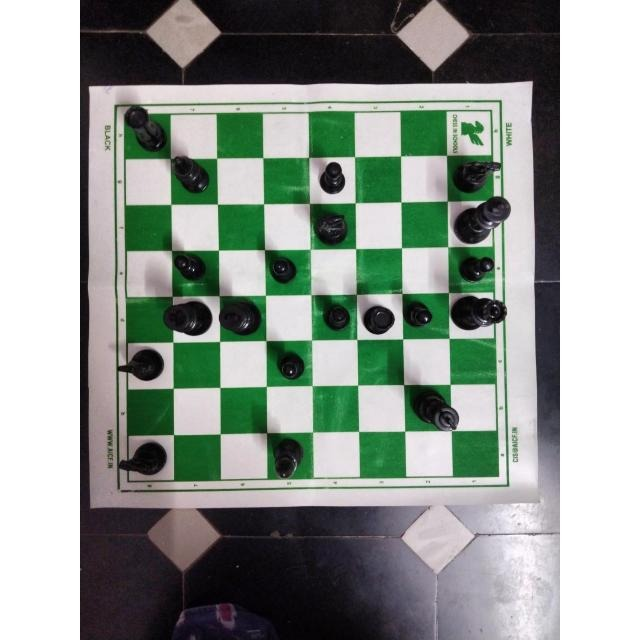black-bishop: (168, 153, 216, 197), (266, 437, 310, 485)
black-king: (450, 194, 516, 246), (408, 387, 462, 435), (159, 299, 212, 337), (216, 297, 261, 339)
black-knight: (114, 439, 169, 481), (449, 155, 505, 195), (311, 206, 359, 248), (116, 345, 166, 381)
black-pawn: (313, 157, 351, 197), (452, 252, 500, 283), (402, 295, 435, 337), (274, 350, 310, 386), (266, 250, 300, 285), (173, 251, 209, 283), (320, 298, 351, 333)
black-queen: (448, 291, 513, 335)
black-rook: (118, 101, 166, 152), (358, 299, 399, 338)
